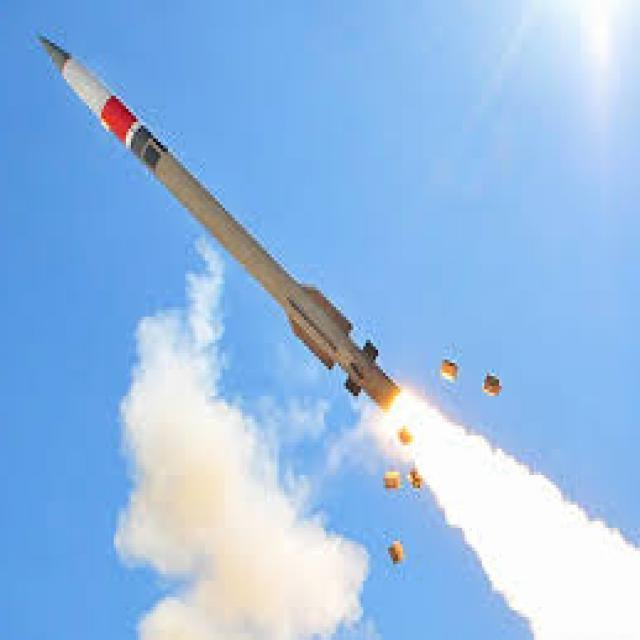missile: (34, 27, 412, 422)
